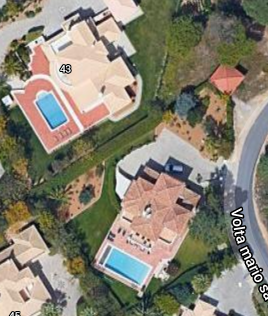pool: (105, 249, 145, 284), (36, 96, 65, 127)
